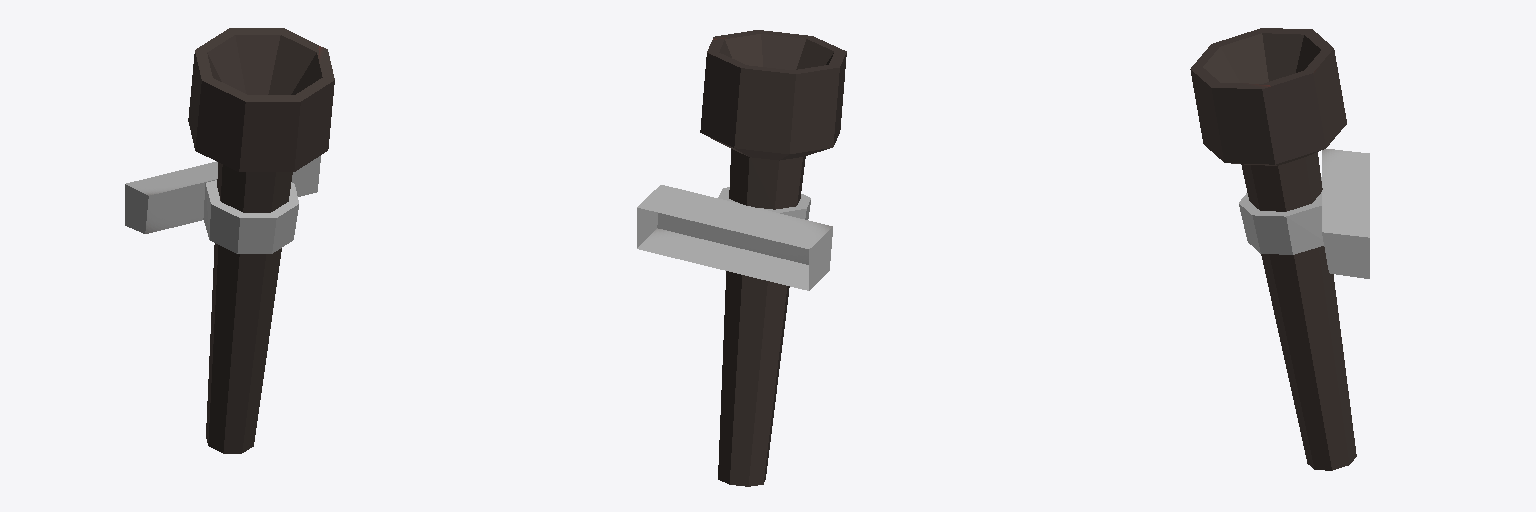
3 renders of one model, left to right at view 1: azimuth 30°, elevation 25°; view 2: azimuth 150°, elevation 25°; view 3: azimuth 270°, elevation 25°, orthographic.
Visible parts, largest first — view 1: Torch.006; view 2: Torch.006; view 3: Torch.006.
Boxes of the visible parts, box(x1,y1,x2,y2) form: Torch.006: box(125, 28, 334, 453); Torch.006: box(637, 30, 846, 486); Torch.006: box(1190, 28, 1369, 470).
Size of the model in its own units: 0.2557 by 0.5882 by 0.2303.
Materials: 1 (1 with a texture image).